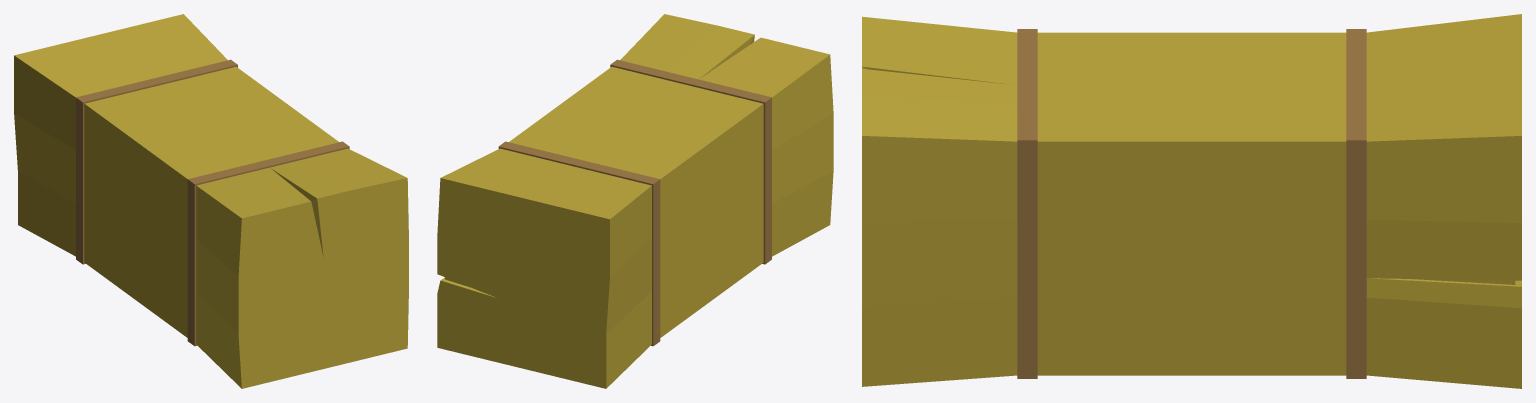
File: O_Enviroment_HayBale_1.fbx
The picture shows the model from 3 angles, left to right: view 1: azimuth 30°, elevation 25°; view 2: azimuth 150°, elevation 25°; view 3: azimuth 270°, elevation 25°; orthographic projection. The views are drawn at different scales.
Parts seen in each view (by area): view 1: pCube57; view 2: pCube57; view 3: pCube57.
Boxes of the visible parts, box(x1,y1,x2,y2) form: pCube57: box(14, 14, 408, 388); pCube57: box(437, 14, 833, 388); pCube57: box(862, 14, 1521, 388).
Bounding box in the file's own units: 1.61 × 1.53 × 3.63.
